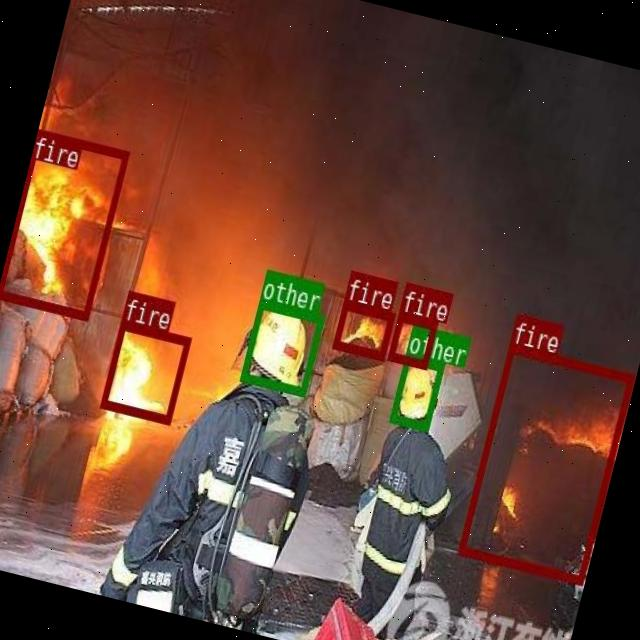fire: (456, 342, 634, 584), (0, 127, 128, 317), (99, 318, 189, 422), (332, 299, 394, 358), (386, 312, 436, 368)
